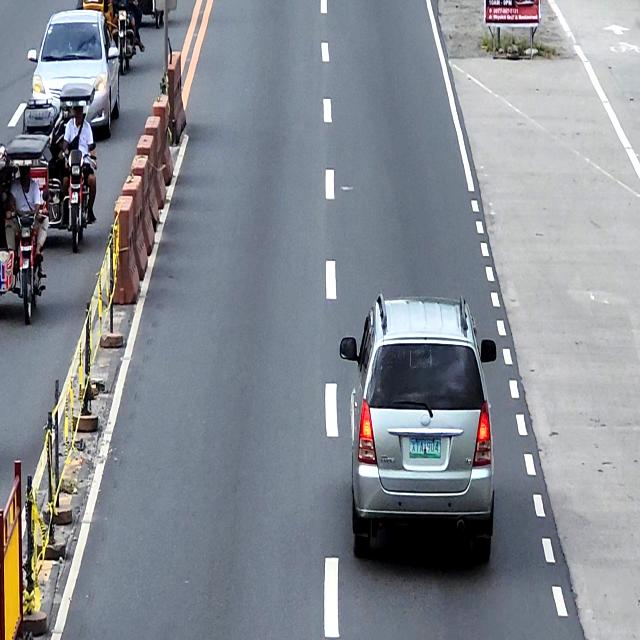Car: (339, 292, 497, 562), (27, 8, 120, 137)
License-Plate: (408, 434, 442, 459)
Tricycle: (23, 82, 98, 255), (0, 134, 50, 325)
